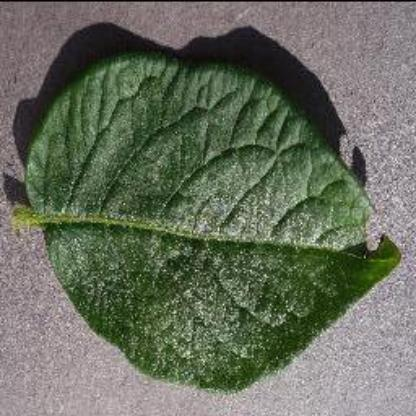Healthy-plant: (15, 46, 402, 402)
